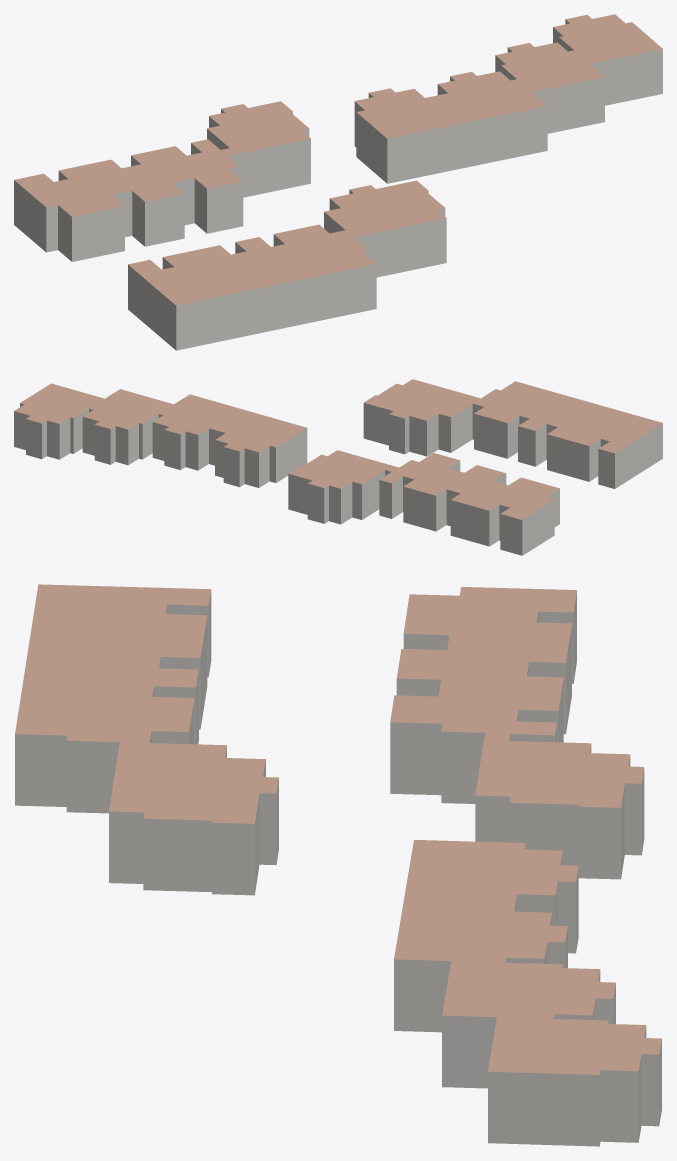
The model's file is gridID_11.dae.
3 views of the same model, one above another, from view 1: azimuth 30°, elevation 25°; view 2: azimuth 150°, elevation 25°; view 3: azimuth 270°, elevation 25° (orthographic). The views are drawn at different scales.
Parts seen in each view (by area): view 1: model_gridID_11_w389702075_003, model_gridID_11_w389702070, model_gridID_11_w389699487, model_gridID_11_w389702075, model_gridID_11_w389702070_001, model_gridID_11_w389699495_001, model_gridID_11_w389699494_001, model_gridID_11_w389699494; view 2: model_gridID_11_w389702075_003, model_gridID_11_w389702070, model_gridID_11_w389702075, model_gridID_11_w389699487, model_gridID_11_w389702070_001, model_gridID_11_w389699494_001, model_gridID_11_w389699494, model_gridID_11_w389699495_001; view 3: model_gridID_11_w389702075_003, model_gridID_11_w389702070, model_gridID_11_w389702075, model_gridID_11_w389699494, model_gridID_11_w389702070_001, model_gridID_11_w389699495_001, model_gridID_11_w389699494_001, model_gridID_11_w389699487.
Boxes of the visible parts, x1,y1,x2,y2 form: model_gridID_11_w389702075_003: (128,224,376,350); model_gridID_11_w389702070: (14,139,243,261); model_gridID_11_w389699487: (354,88,473,183); model_gridID_11_w389702075: (324,180,446,277); model_gridID_11_w389702070_001: (207,101,310,197); model_gridID_11_w389699495_001: (437,71,547,165); model_gridID_11_w389699494_001: (495,42,604,133); model_gridID_11_w389699494: (553,14,662,105); model_gridID_11_w389702075_003: (472,381,662,488); model_gridID_11_w389702070: (379,453,559,555); model_gridID_11_w389702075: (363,379,480,456); model_gridID_11_w389699487: (212,410,307,487); model_gridID_11_w389702070_001: (288,450,391,524); model_gridID_11_w389699494_001: (82,389,173,465); model_gridID_11_w389699494: (14,383,104,459); model_gridID_11_w389699495_001: (152,394,243,470); model_gridID_11_w389702075_003: (15,584,211,813); model_gridID_11_w389702070: (390,587,576,803); model_gridID_11_w389702075: (109,742,278,895); model_gridID_11_w389699494: (488,1017,661,1146); model_gridID_11_w389702070_001: (475,740,644,879); model_gridID_11_w389699495_001: (394,904,567,1032); model_gridID_11_w389699494_001: (442,961,615,1088); model_gridID_11_w389699487: (403,839,578,953).
Bounding box in the file's own units: 110 × 61.47 × 7.5.
